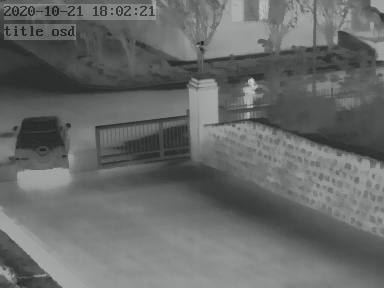person: (244, 74, 261, 104)
vehicle: (12, 116, 72, 182)
